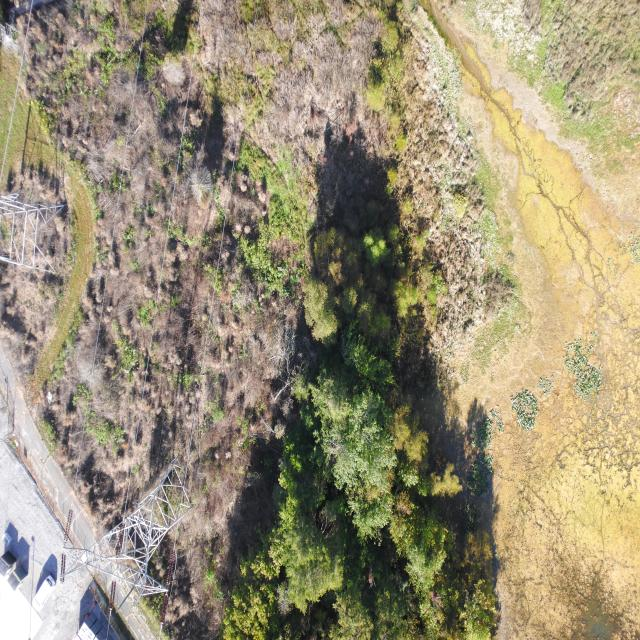Area of Interest: (228, 236, 492, 629)
